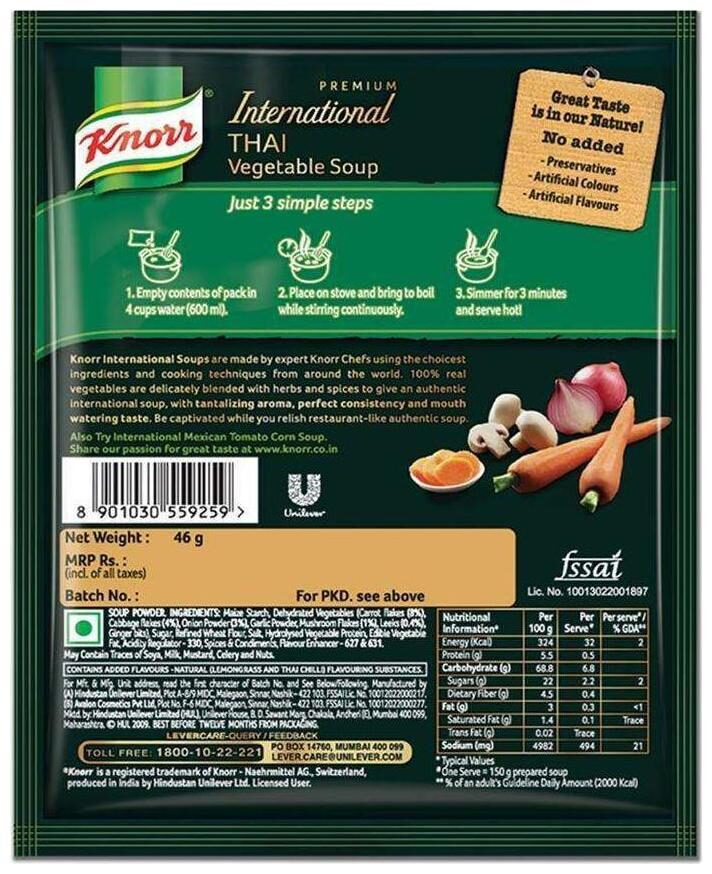fssai: (551, 549, 626, 582)
